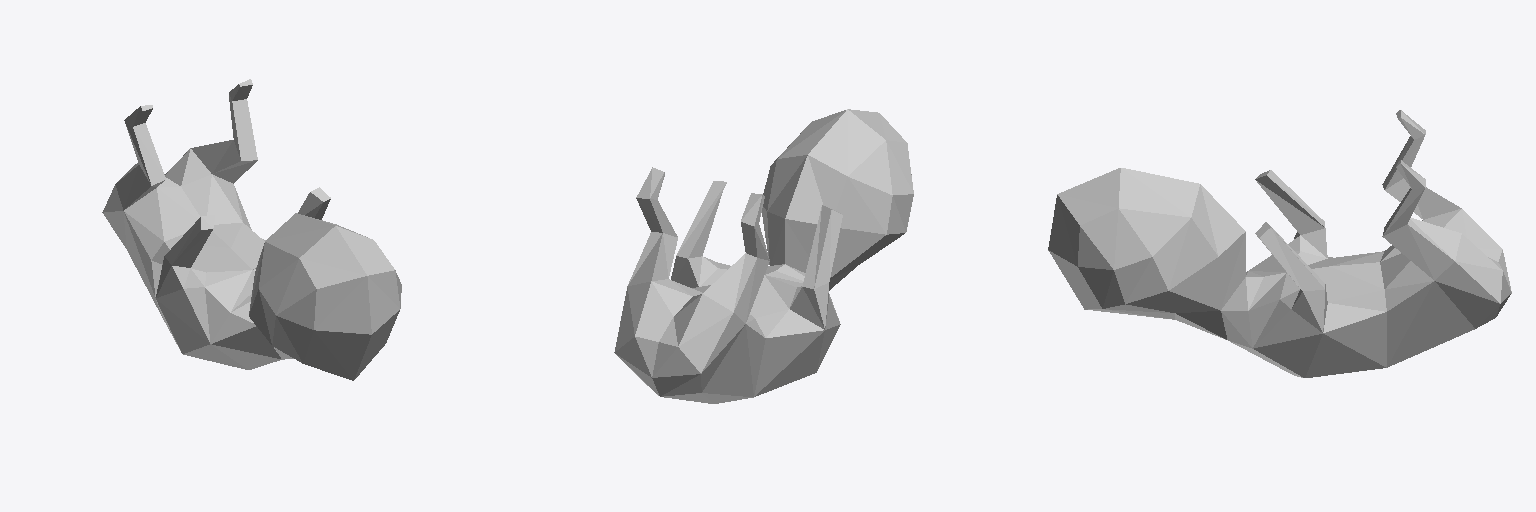
The model's file is sikio.obj.
The picture shows the model from 3 angles: view 1: azimuth 30°, elevation 25°; view 2: azimuth 150°, elevation 25°; view 3: azimuth 270°, elevation 25°; orthographic projection.
Parts seen in each view (by area): view 1: object001; view 2: object001; view 3: object001.
Boxes of the visible parts, x1=… form: object001: x1=102, y1=79, x2=401, y2=380; object001: x1=614, y1=109, x2=913, y2=403; object001: x1=1048, y1=110, x2=1511, y2=377.
Size of the model in its own units: 0.8 by 1.16 by 2.04.